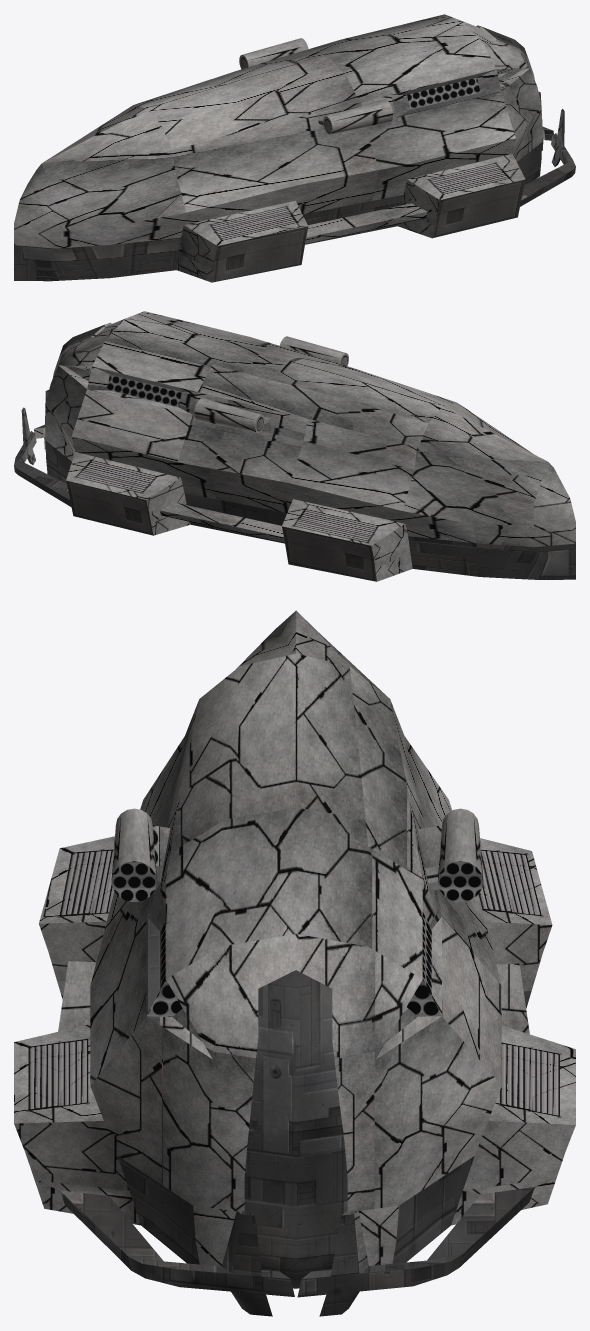
The model's file is harvester.fbx.
3 views of the same model, one above another, from view 1: azimuth 30°, elevation 25°; view 2: azimuth 150°, elevation 25°; view 3: azimuth 270°, elevation 25° (orthographic). The views are drawn at different scales.
Visible parts, largest first — view 1: Cube; view 2: Cube; view 3: Cube.
Part boxes in pixels (x1,y1,x2,y2): Cube: [14, 14, 575, 282]; Cube: [14, 311, 575, 581]; Cube: [14, 610, 575, 1316].
Bounding box in the file's own units: 590 × 162 × 273.
